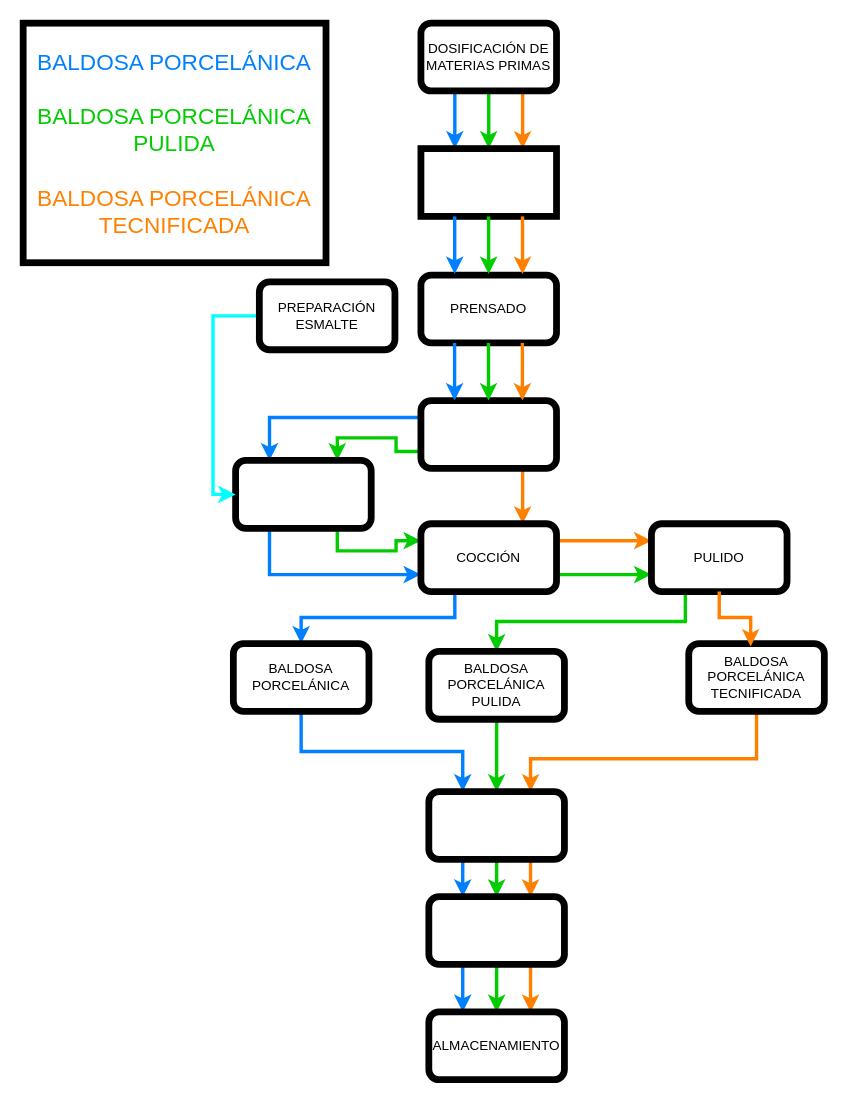
Image size: 846x1102. Some labels were removed from this diagram. The centre of each missing label's shape, as x and y in pixels:
"CONTROL DE CALIDAD" belongs at [496,825].
"EMPAQUE EN CAJAS" belongs at [496,930].
"ESMALTADO" belongs at [303,494].
"PREPARACIÓN DE PASTA HÚMEDA" belongs at [488,182].
"SECADO" belongs at [488,434].
